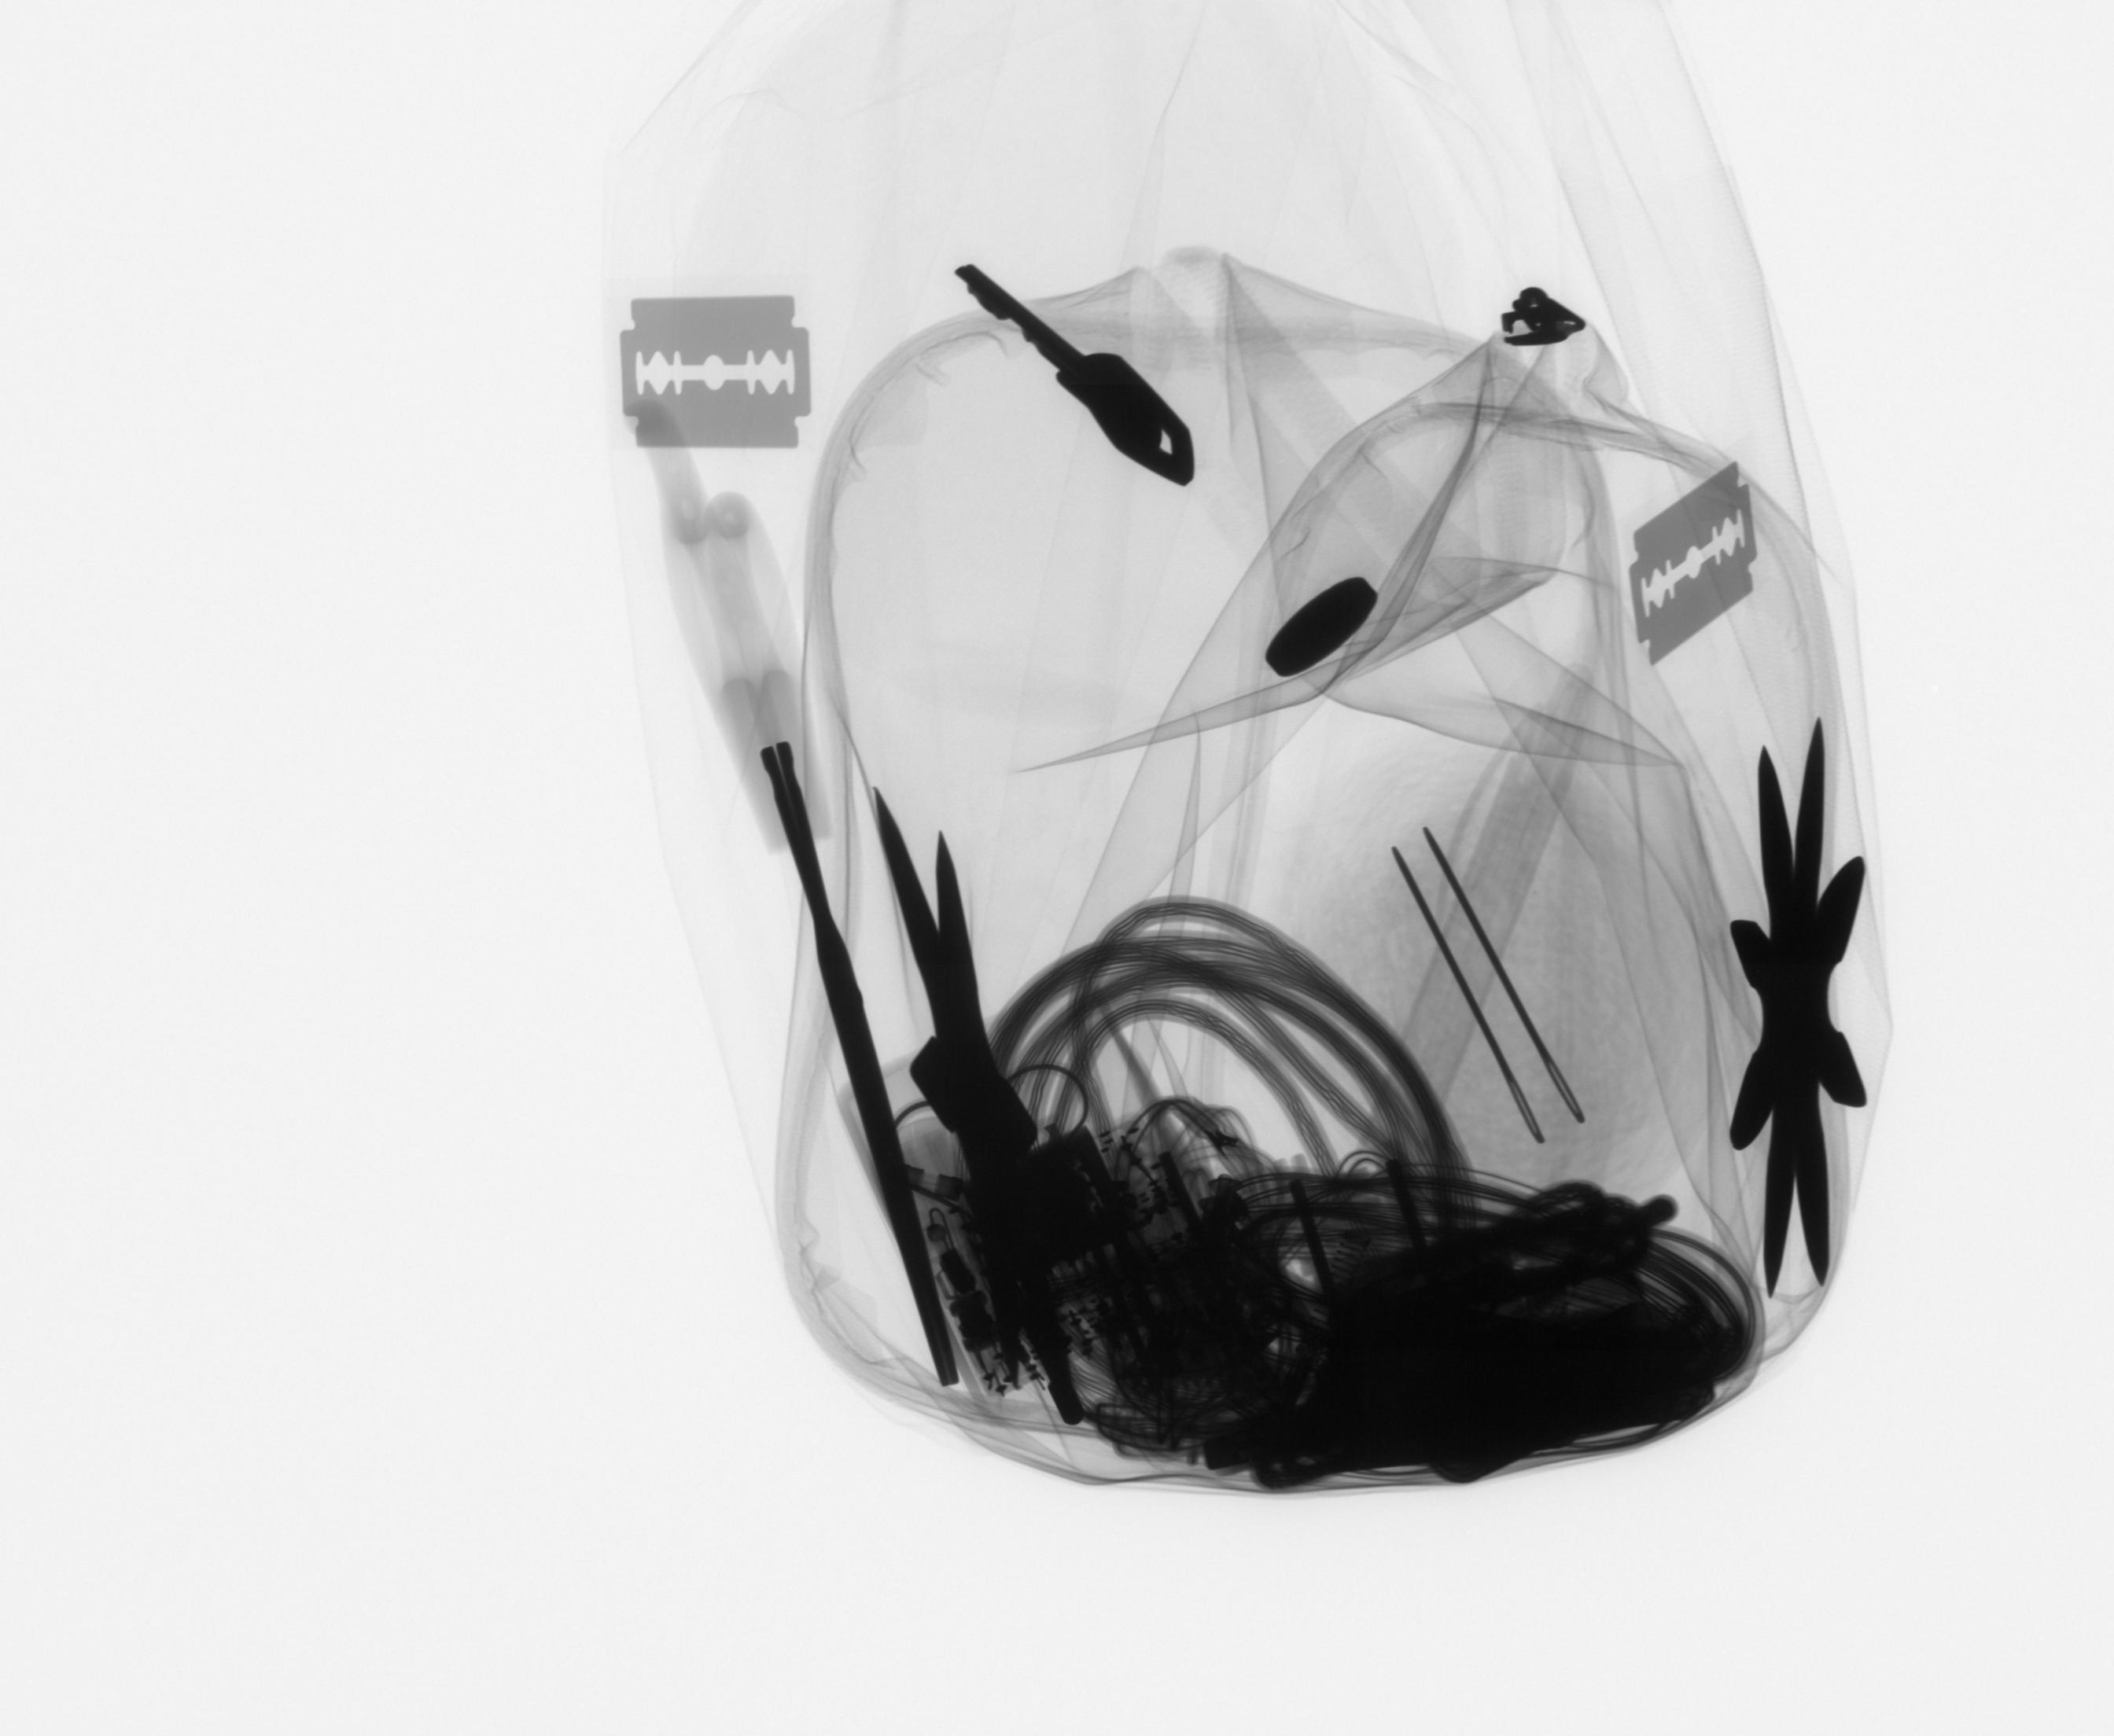RazorBlade: (593, 270, 850, 484), (1615, 451, 1773, 672)
Shuriken: (855, 786, 1089, 1395), (1710, 713, 1875, 1313)
